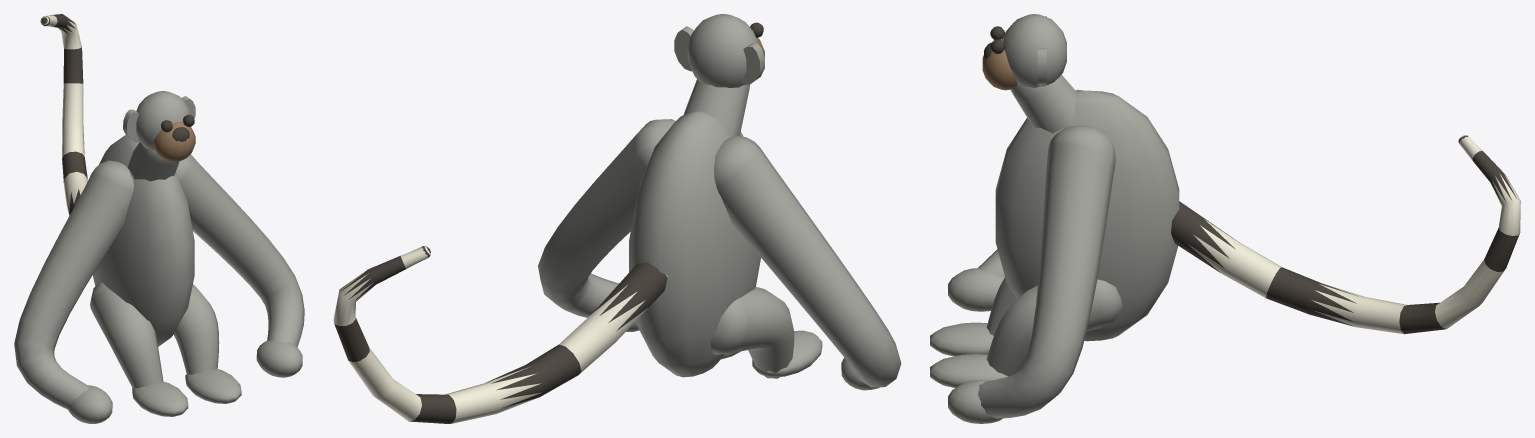
The model's file is rainforest-and-jungle-fauna-ring-tailed-lemur-bcef81fe__21683.glb.
The picture shows the model from 3 angles, left to right: view 1: azimuth 30°, elevation 25°; view 2: azimuth 150°, elevation 25°; view 3: azimuth 270°, elevation 25°; orthographic projection. The views are drawn at different scales.
Visible parts, largest first — view 1: ring-tailed-lemur; view 2: ring-tailed-lemur; view 3: ring-tailed-lemur.
Part boxes in pixels (box(x1,y1,x2,y2)): ring-tailed-lemur: box(14, 14, 304, 423); ring-tailed-lemur: box(333, 14, 901, 423); ring-tailed-lemur: box(930, 14, 1520, 423).
Bounding box in the file's own units: 0.5967 × 0.5931 × 0.9.
